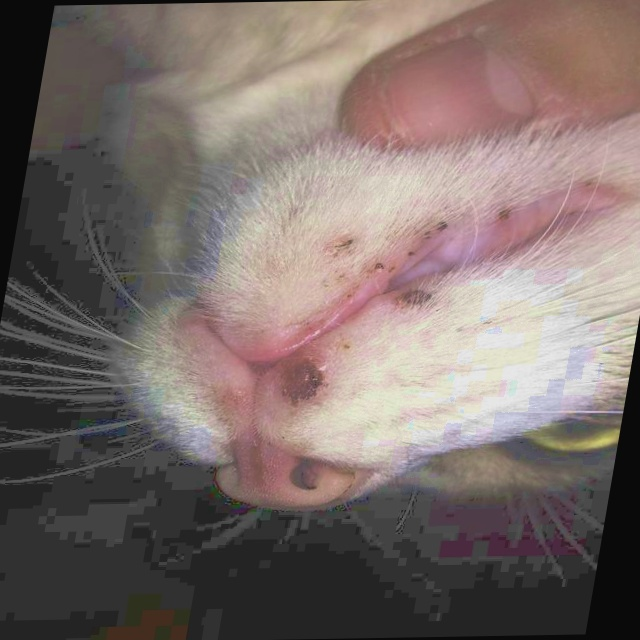acne: (391, 289, 435, 311), (327, 228, 359, 256)
